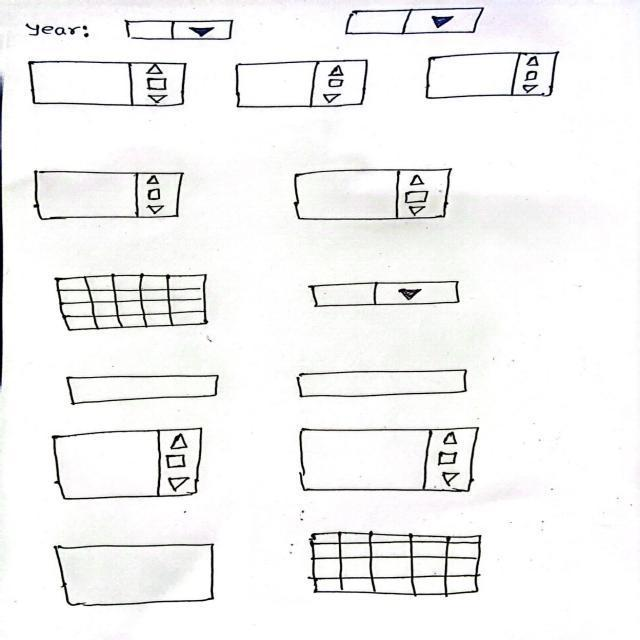table: (294, 525, 496, 608), (48, 269, 249, 345)
textarea: (285, 419, 489, 504), (39, 424, 218, 509), (24, 164, 194, 227), (288, 161, 456, 224), (19, 56, 197, 114), (231, 54, 376, 114), (424, 47, 567, 107), (301, 275, 473, 314)
textbox: (54, 368, 229, 411), (284, 366, 481, 403)
